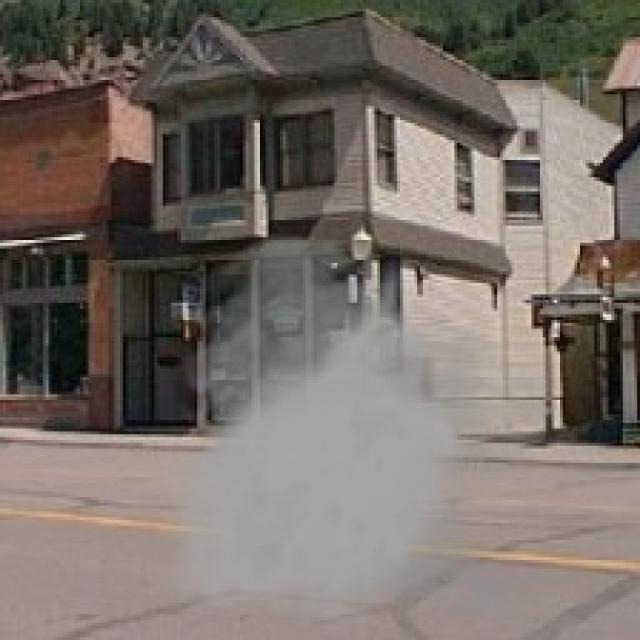smoke: (149, 229, 557, 634)
